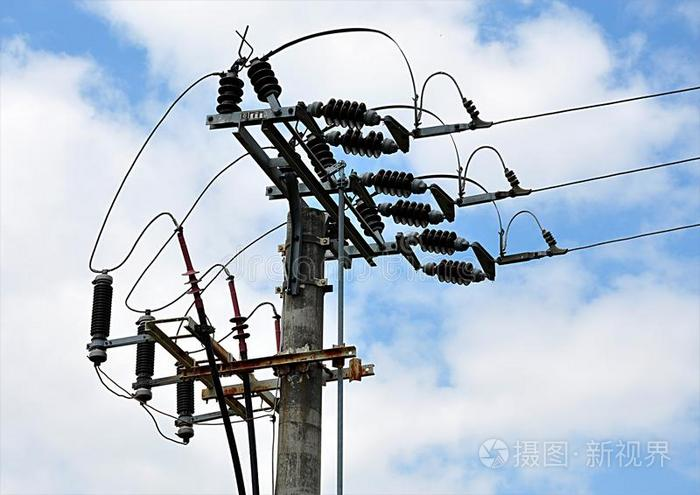insulator: (245, 61, 282, 103), (338, 128, 386, 160), (323, 98, 368, 128), (353, 197, 387, 236), (390, 196, 431, 227), (373, 169, 415, 198), (213, 73, 243, 113), (433, 257, 474, 286), (306, 136, 333, 176), (420, 228, 455, 256), (179, 270, 207, 295), (228, 315, 251, 342)
